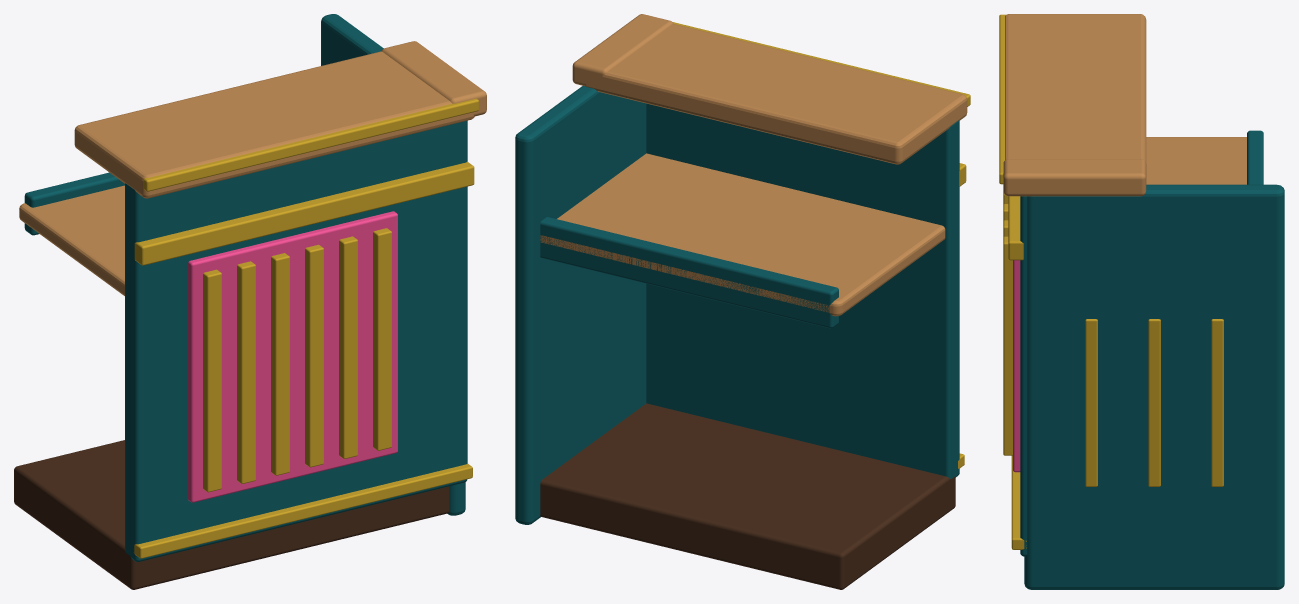
File: reception-desk-end-right.glb
3 renders of one model, left to right at view 1: azimuth 30°, elevation 25°; view 2: azimuth 150°, elevation 25°; view 3: azimuth 270°, elevation 25°, orthographic. The views are drawn at different scales.
Parts seen in each view (by area): view 1: front.panel, panel.colour, top.txn, plinth, band.speed, top.work, band.base, top.txn.nose, flute.3, flute.0, flute.1, flute.2 (+5 smaller); view 2: front.panel, plinth, end.panel, top.work, top.txn, apron.back, end.top.txn, top.txn.nose; view 3: end.panel, top.txn, end.top.txn, top.work, front.panel, end.flute.0, end.flute.1, end.flute.2, flute.5, panel.colour, top.txn.nose, apron.back (+2 smaller).
Boxes of the visible parts, box(x1,y1,x2,y2) form: front.panel: box(125, 120, 467, 561); panel.colour: box(188, 211, 397, 502); top.txn: box(74, 51, 474, 198); plinth: box(14, 440, 449, 589); band.speed: box(134, 162, 474, 265); top.work: box(19, 185, 124, 295); band.base: box(133, 463, 472, 558); top.txn.nose: box(143, 98, 478, 191); flute.3: box(305, 244, 323, 467); flute.0: box(203, 269, 221, 492); flute.1: box(237, 261, 255, 483); flute.2: box(271, 253, 289, 475); front.panel: box(646, 103, 959, 478); plinth: box(540, 403, 955, 589); end.panel: box(515, 85, 646, 524); top.work: box(540, 153, 945, 316); top.txn: box(584, 23, 967, 164); apron.back: box(540, 217, 838, 328); end.top.txn: box(572, 14, 673, 85); top.txn.nose: box(673, 22, 970, 106); end.panel: box(1024, 184, 1284, 589); top.txn: box(1005, 14, 1146, 163); end.top.txn: box(1003, 159, 1146, 196); top.work: box(1146, 137, 1246, 184); front.panel: box(1020, 196, 1027, 556); end.flute.0: box(1211, 319, 1223, 486); end.flute.1: box(1148, 319, 1160, 486); end.flute.2: box(1085, 319, 1097, 486); flute.5: box(1003, 236, 1012, 455); panel.colour: box(1013, 260, 1020, 472); top.txn.nose: box(999, 14, 1005, 184); apron.back: box(1247, 130, 1263, 184).
Bounding box in the file's own units: 0.93 × 1.11 × 0.68.
